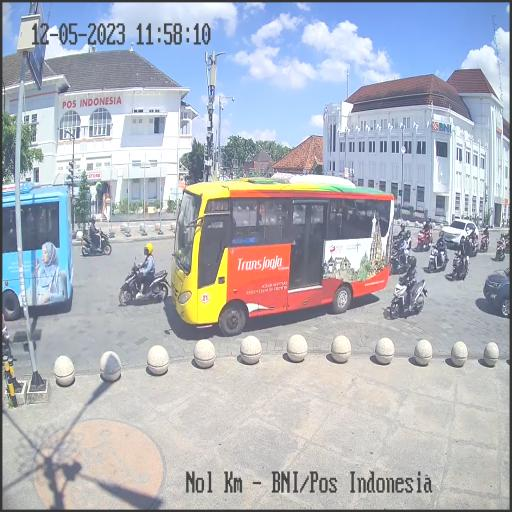mobil: (164, 169, 396, 326), (442, 217, 479, 249)
motor: (115, 255, 169, 309), (391, 272, 428, 318), (78, 224, 112, 262), (390, 244, 418, 272), (428, 244, 448, 272), (452, 251, 468, 280), (417, 225, 432, 249)
